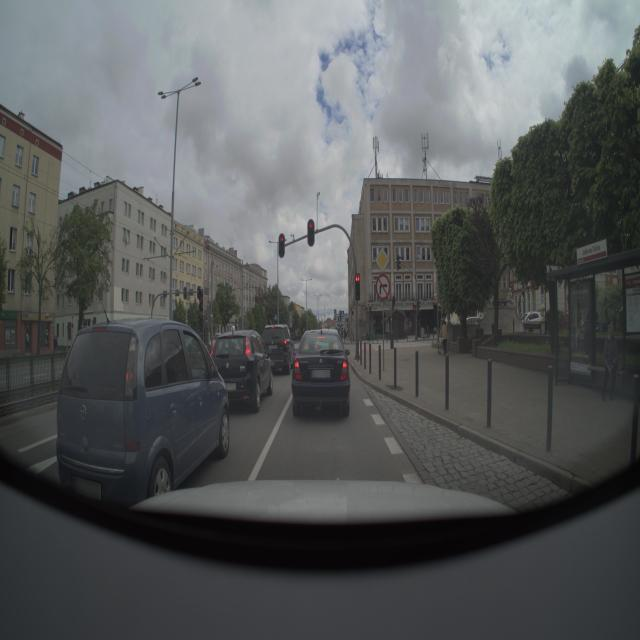red_light: (352, 272, 362, 302), (276, 231, 286, 259), (308, 218, 316, 248)
